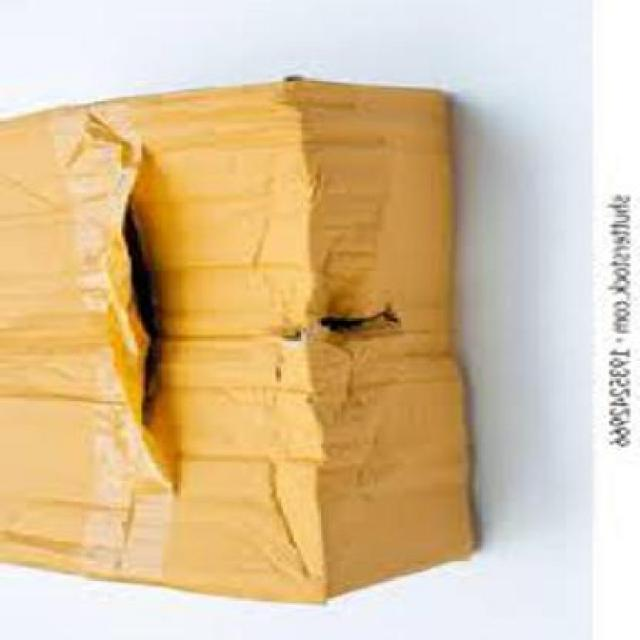defect: (2, 68, 490, 614)
